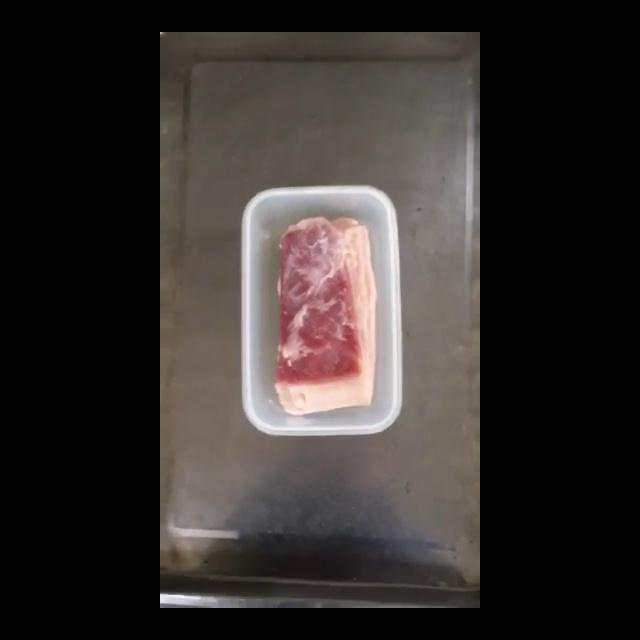pork: (281, 213, 375, 407), (160, 32, 162, 34)
